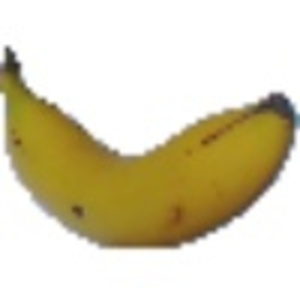banana: (1, 39, 298, 255)
